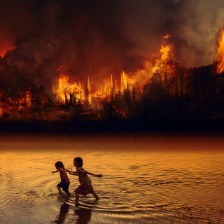incendio: (10, 32, 212, 111)
pessoas: (67, 155, 98, 205), (48, 151, 72, 201)
